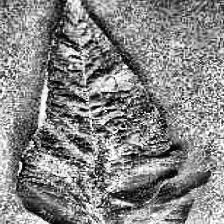spider mites: (15, 0, 211, 224)
